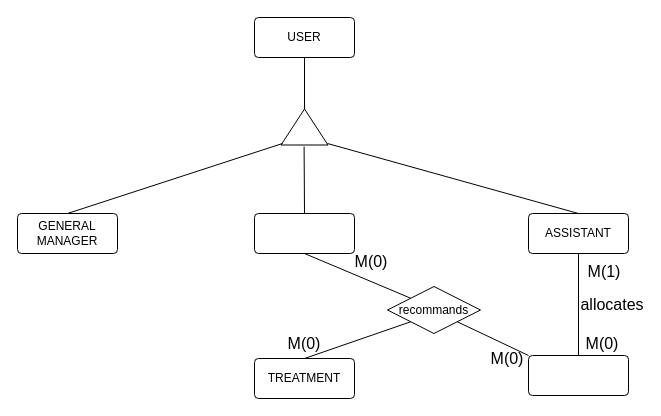
Some shapes in this 661 by 416 pixel diagram are drawn without their labels. The centre of each missing label's shape, as x and y in pixels:
DOCTOR: the point at 304,233
IsA: the point at 304,126
PATIENT: the point at 578,375
